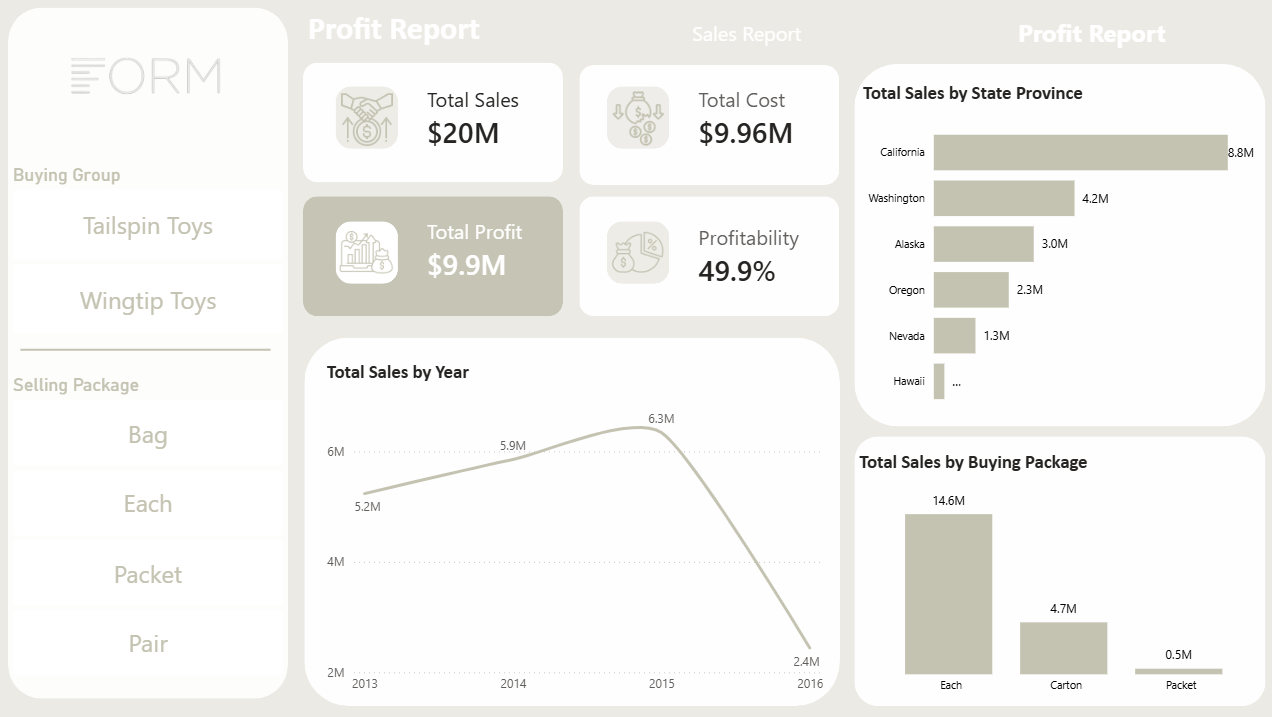

The dashboard page shown, as its layout file describes it:
{"tool":"powerbi","page":{"name":"Profit Report","canvas":[1280,720],"ordinal":1},"visuals":[{"type":"shape","box":[10,7.5,280,691.2],"z":0},{"type":"shape","box":[305.7,337.1,535.7,368.6],"z":1000},{"type":"shape","box":[305.5,62.7,260,120],"z":2000},{"type":"shape","box":[305.5,196.4,260,120],"z":3000},{"type":"shape","box":[581.8,196.4,260,120],"z":4000},{"type":"shape","box":[581.8,64.5,260,120],"z":5000},{"type":"shape","box":[855.7,435.7,411.4,270],"z":6000},{"type":"shape","box":[855.7,64.3,411.4,362.9],"z":7000},{"type":"textbox","box":[305,3.3,190,53.3],"z":8000},{"type":"image","box":[0,6.7,295,153.3],"z":9000},{"type":"cardVisual","title":"Total Sales","fields":{"Data":["FactSale.Total Sales"]},"box":[400,58.2,158.2,120.9],"z":10000},{"type":"shape","box":[337.3,86.4,62.7,62.7],"z":11000},{"type":"cardVisual","title":"Total Sales","fields":{"Data":["Sum(FactSale.Cost)"]},"box":[670.9,58.2,158.2,120.9],"z":12000},{"type":"shape","box":[608.2,86.4,62.7,62.7],"z":13000},{"type":"cardVisual","title":"Total Sales","fields":{"Data":["Sum(FactSale.Profit)"]},"box":[400,191.8,158.2,120.9],"z":14000},{"type":"shape","box":[337.3,220.9,62.7,62.7],"z":15000},{"type":"cardVisual","title":"Total Sales","fields":{"Data":["FactSale.Profitability"]},"box":[671.4,195.7,170,121.4],"z":16000},{"type":"shape","box":[608.2,220.9,62.7,62.7],"z":17000},{"type":"image","box":[606.2,224.6,67.7,54.6],"z":18000},{"type":"lineChart","fields":{"Category":["DimDate.Date.Variation.Date Hierarchy.Year","DimDate.Date.Variation.Date Hierarchy.Quarter","DimDate.Date.Variation.Date Hierarchy.Month","DimDate.Date.Variation.Date Hierarchy.Day"],"Y":["Sum(FactSale.Total Excluding Tax)"]},"box":[323.8,360,506.2,342.5],"z":19000},{"type":"clusteredColumnChart","fields":{"Y":["Sum(FactSale.Total Excluding Tax)"],"Category":["DimStockItem.Buying Package"]},"box":[855.8,450,424.2,252.5],"z":20000},{"type":"clusteredBarChart","fields":{"Category":["DimCity.State Province"],"Y":["Sum(FactSale.Total Excluding Tax)"]},"box":[860,81.2,401.2,342.5],"z":21000},{"type":"image","box":[334.2,225,68.3,54.2],"z":22000},{"type":"image","box":[335,92,68,54],"z":23000},{"type":"image","box":[607.5,90.8,65.8,54.2],"z":24000},{"type":"shape","box":[23,206,250,287],"z":24500},{"type":"advancedSlicerVisual","fields":{"Values":["DimCustomer.Buying Group"]},"box":[10,164,280,176],"z":25000},{"type":"advancedSlicerVisual","fields":{"Values":["DimStockItem.Selling Package"]},"box":[10,373.8,280,310],"z":26000},{"type":"pageNavigator","box":[581.4,7.1,680,50],"z":26001}]}

Visuals, with their boxes in screenshot pixels (x1, y1, x2, y2), scaled from the page's 1280x720 canvas onto the 1272x717 screenshot:
shape: select_region(10, 7, 288, 696)
shape: select_region(304, 336, 836, 703)
shape: select_region(304, 62, 562, 182)
shape: select_region(304, 196, 562, 315)
shape: select_region(578, 196, 837, 315)
shape: select_region(578, 64, 837, 184)
shape: select_region(850, 434, 1259, 703)
shape: select_region(850, 64, 1259, 425)
textbox: select_region(303, 3, 492, 56)
image: select_region(0, 7, 293, 159)
"Total Sales" cardVisual: select_region(398, 58, 555, 178)
shape: select_region(335, 86, 398, 148)
"Total Sales" cardVisual: select_region(667, 58, 824, 178)
shape: select_region(604, 86, 667, 148)
"Total Sales" cardVisual: select_region(398, 191, 555, 311)
shape: select_region(335, 220, 398, 282)
"Total Sales" cardVisual: select_region(667, 195, 836, 316)
shape: select_region(604, 220, 667, 282)
image: select_region(602, 224, 670, 278)
lineChart - DimDate.Date.Variation.Date Hierarchy.Year x DimDate.Date.Variation.Date Hierarchy.Quarter: select_region(322, 358, 825, 700)
clusteredColumnChart - Sum(FactSale.Total Excluding Tax) x DimStockItem.Buying Package: select_region(850, 448, 1271, 700)
clusteredBarChart - DimCity.State Province x Sum(FactSale.Total Excluding Tax): select_region(855, 81, 1253, 422)
image: select_region(332, 224, 400, 278)
image: select_region(333, 92, 400, 145)
image: select_region(604, 90, 669, 144)
shape: select_region(23, 205, 271, 491)
advancedSlicerVisual - DimCustomer.Buying Group: select_region(10, 163, 288, 339)
advancedSlicerVisual - DimStockItem.Selling Package: select_region(10, 372, 288, 681)
pageNavigator: select_region(578, 7, 1254, 57)
